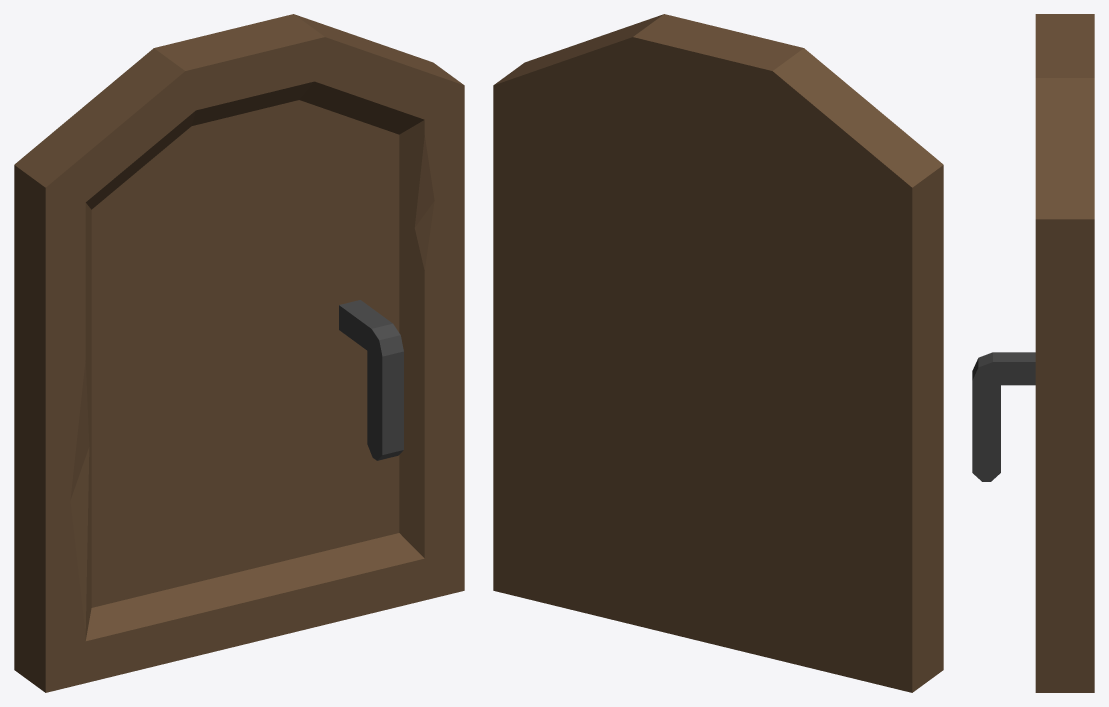
Rendered from SFHW_Shelving_004_Cabinet.fbx.
The picture shows the model from 3 angles, left to right: view 1: azimuth 30°, elevation 25°; view 2: azimuth 150°, elevation 25°; view 3: azimuth 270°, elevation 25°; orthographic projection. The views are drawn at different scales.
Visible parts, largest first — view 1: SFHW_Shelving_004_Cabinet; view 2: SFHW_Shelving_004_Cabinet; view 3: SFHW_Shelving_004_Cabinet.
Boxes of the visible parts, <box> form: SFHW_Shelving_004_Cabinet: <box>14,14,464,692</box>; SFHW_Shelving_004_Cabinet: <box>493,14,943,692</box>; SFHW_Shelving_004_Cabinet: <box>972,14,1094,692</box>.
Size of the model in its own units: 29.24 by 39.18 by 7.87.
